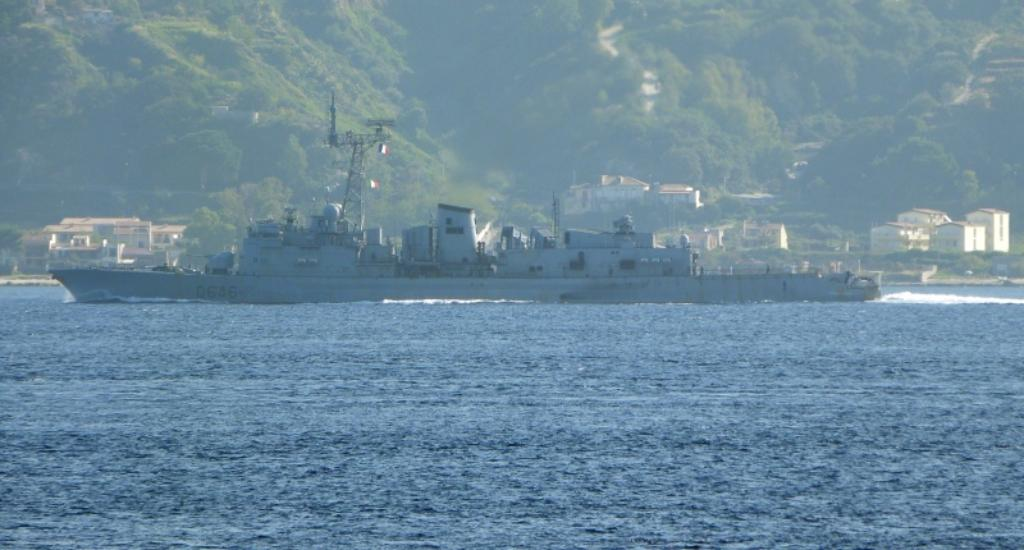Warship: (41, 90, 885, 306)
